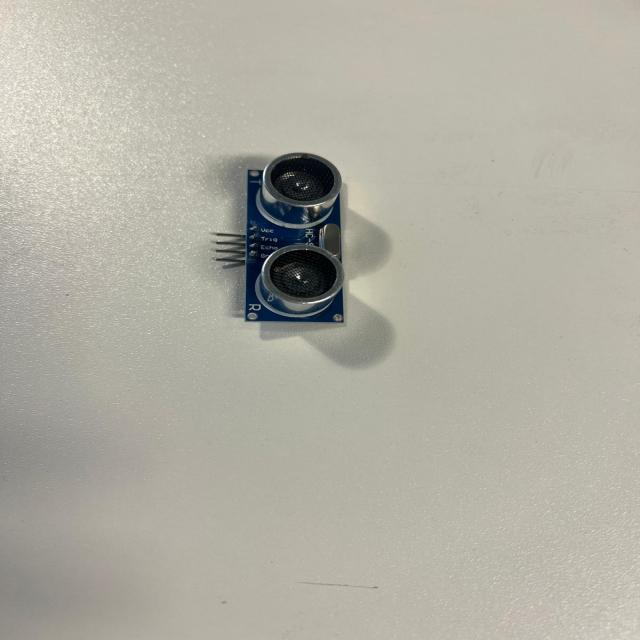UltrasoneSensor: (188, 121, 381, 355)
